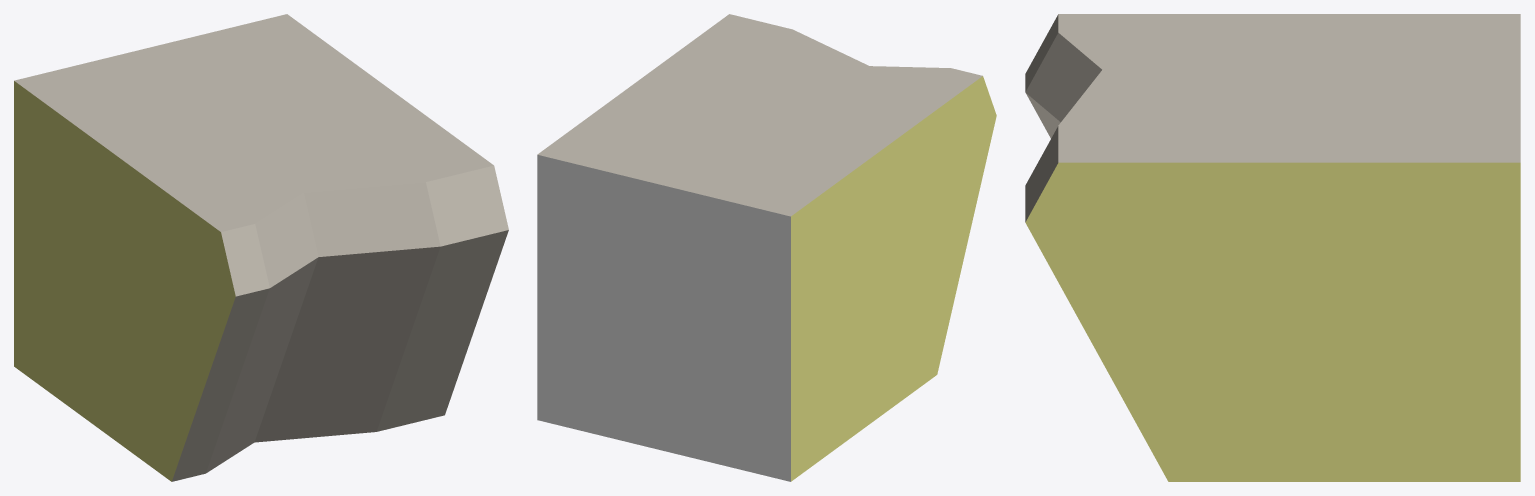
Rendered from Cracked_Straight_1x2_1_Top.glb.
3 renders of one model, left to right at view 1: azimuth 30°, elevation 25°; view 2: azimuth 150°, elevation 25°; view 3: azimuth 270°, elevation 25°, orthographic. The views are drawn at different scales.
Parts seen in each view (by area): view 1: Cracked_Straight_1x2_1_Top; view 2: Cracked_Straight_1x2_1_Top; view 3: Cracked_Straight_1x2_1_Top.
Boxes of the visible parts, x1,y1,x2,y2 form: Cracked_Straight_1x2_1_Top: (14, 14, 508, 481); Cracked_Straight_1x2_1_Top: (537, 14, 996, 481); Cracked_Straight_1x2_1_Top: (1025, 14, 1520, 481).
Size of the model in its own units: 100 by 100 by 141.
